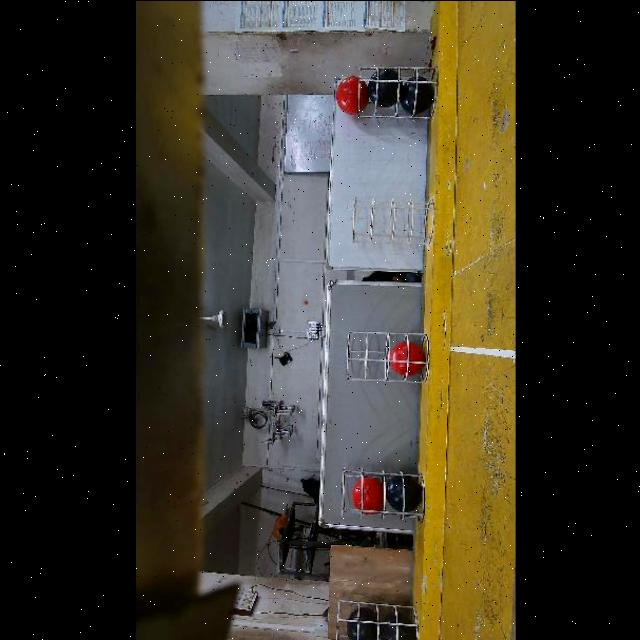P: (385, 477, 422, 513), (367, 68, 401, 107), (398, 76, 432, 113), (345, 608, 380, 640), (378, 613, 415, 640)
R: (334, 76, 367, 114), (350, 476, 382, 514), (389, 341, 423, 376)
S: (348, 71, 428, 131), (334, 332, 426, 384), (336, 468, 420, 524), (350, 198, 434, 250), (333, 594, 415, 640)
